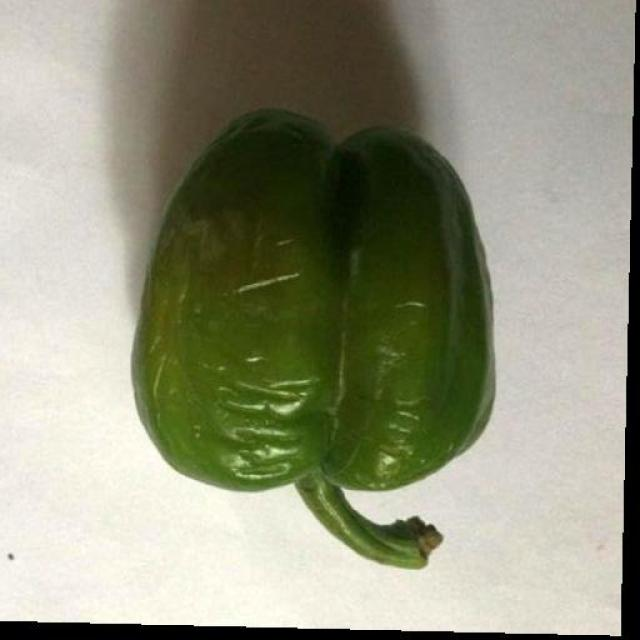Stale_Capsicum: (149, 70, 506, 567)
